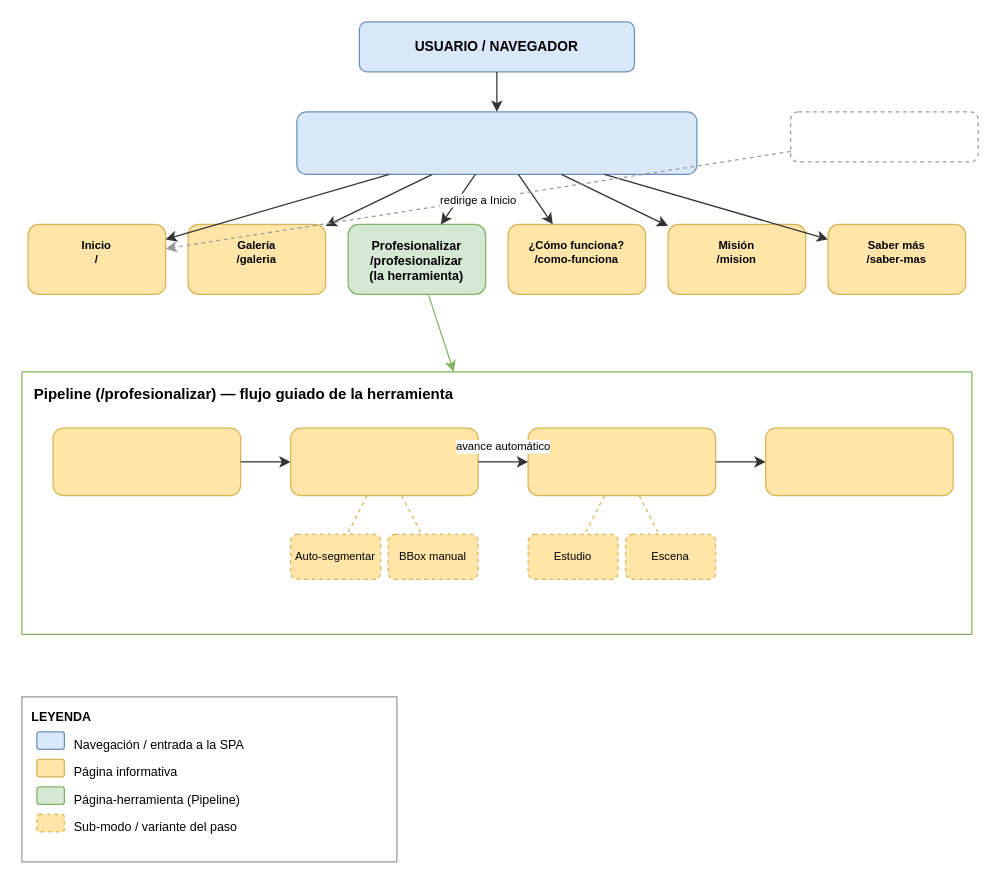
Image size: 1000x884. Some labels were removed from this diagram. Here are the shapes that lost their labels. From the top down, the centre of each, then its label:
(x=496, y=142): Photify · SPA (React + React Router) Barra de navegación persistente
(x=883, y=136): Ruta desconocida (*)
(x=146, y=461): 1 · Subir imagen (arrastrar / clic)
(x=383, y=461): 2 · Segmentar
(x=621, y=461): 3 · Componer fondo
(x=858, y=461): 4 · Descargar PNG
